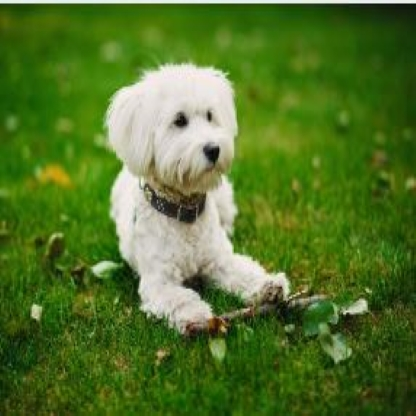maltese: (106, 57, 289, 336)
